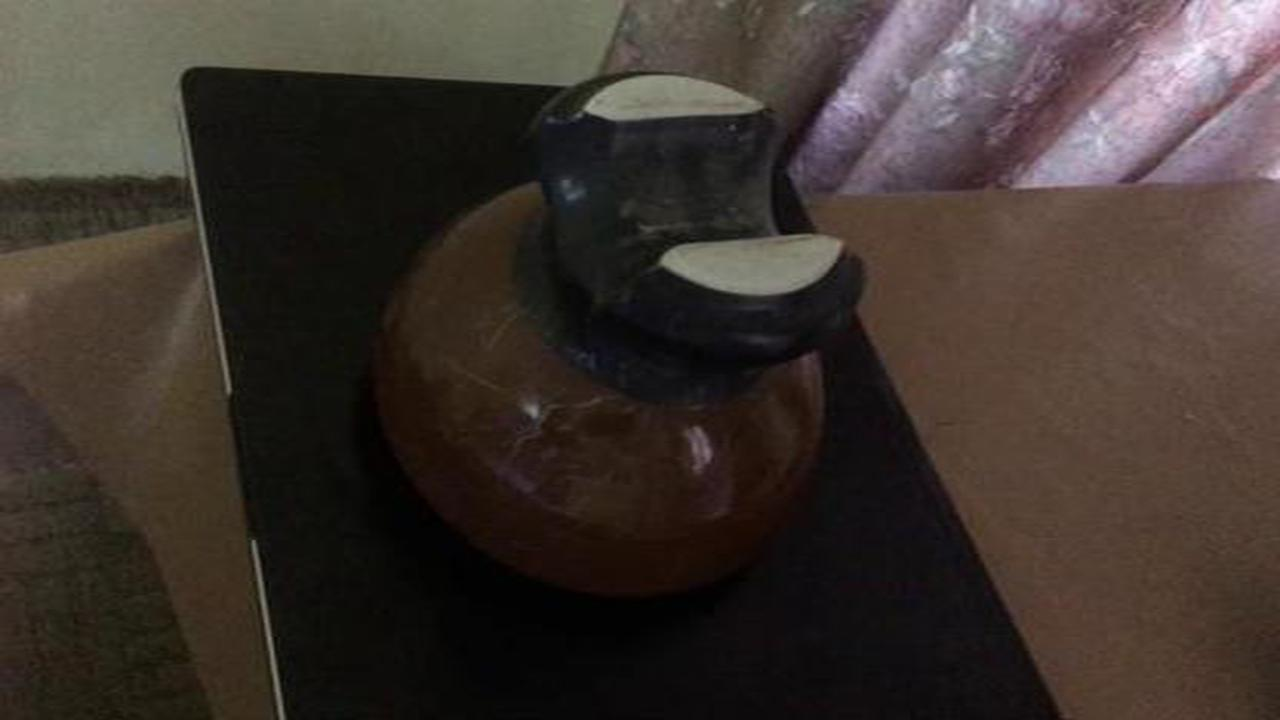insulator_pin: (354, 47, 899, 617)
